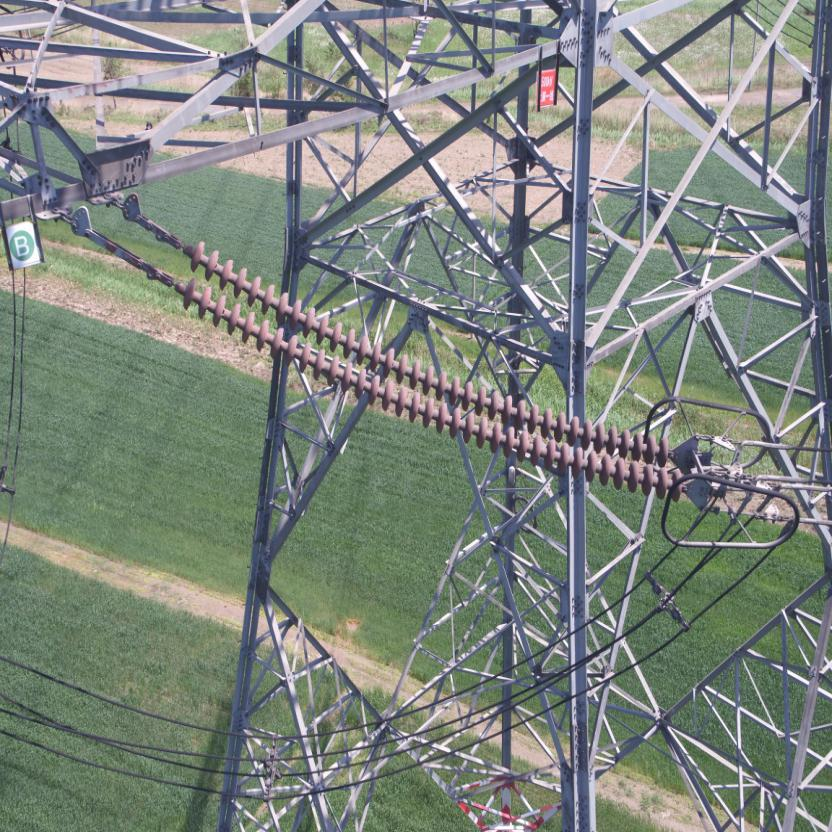insulator: (159, 226, 688, 504)
